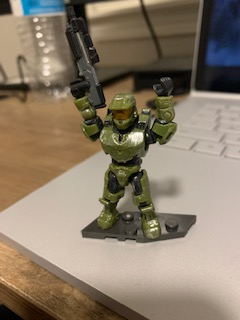chief: (67, 77, 178, 241)
rifle: (64, 7, 106, 110)
spartan: (65, 75, 176, 239)
up: (68, 76, 178, 164)
